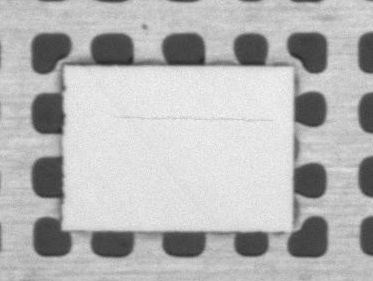DIE_CRACK: (153, 88, 361, 90)
